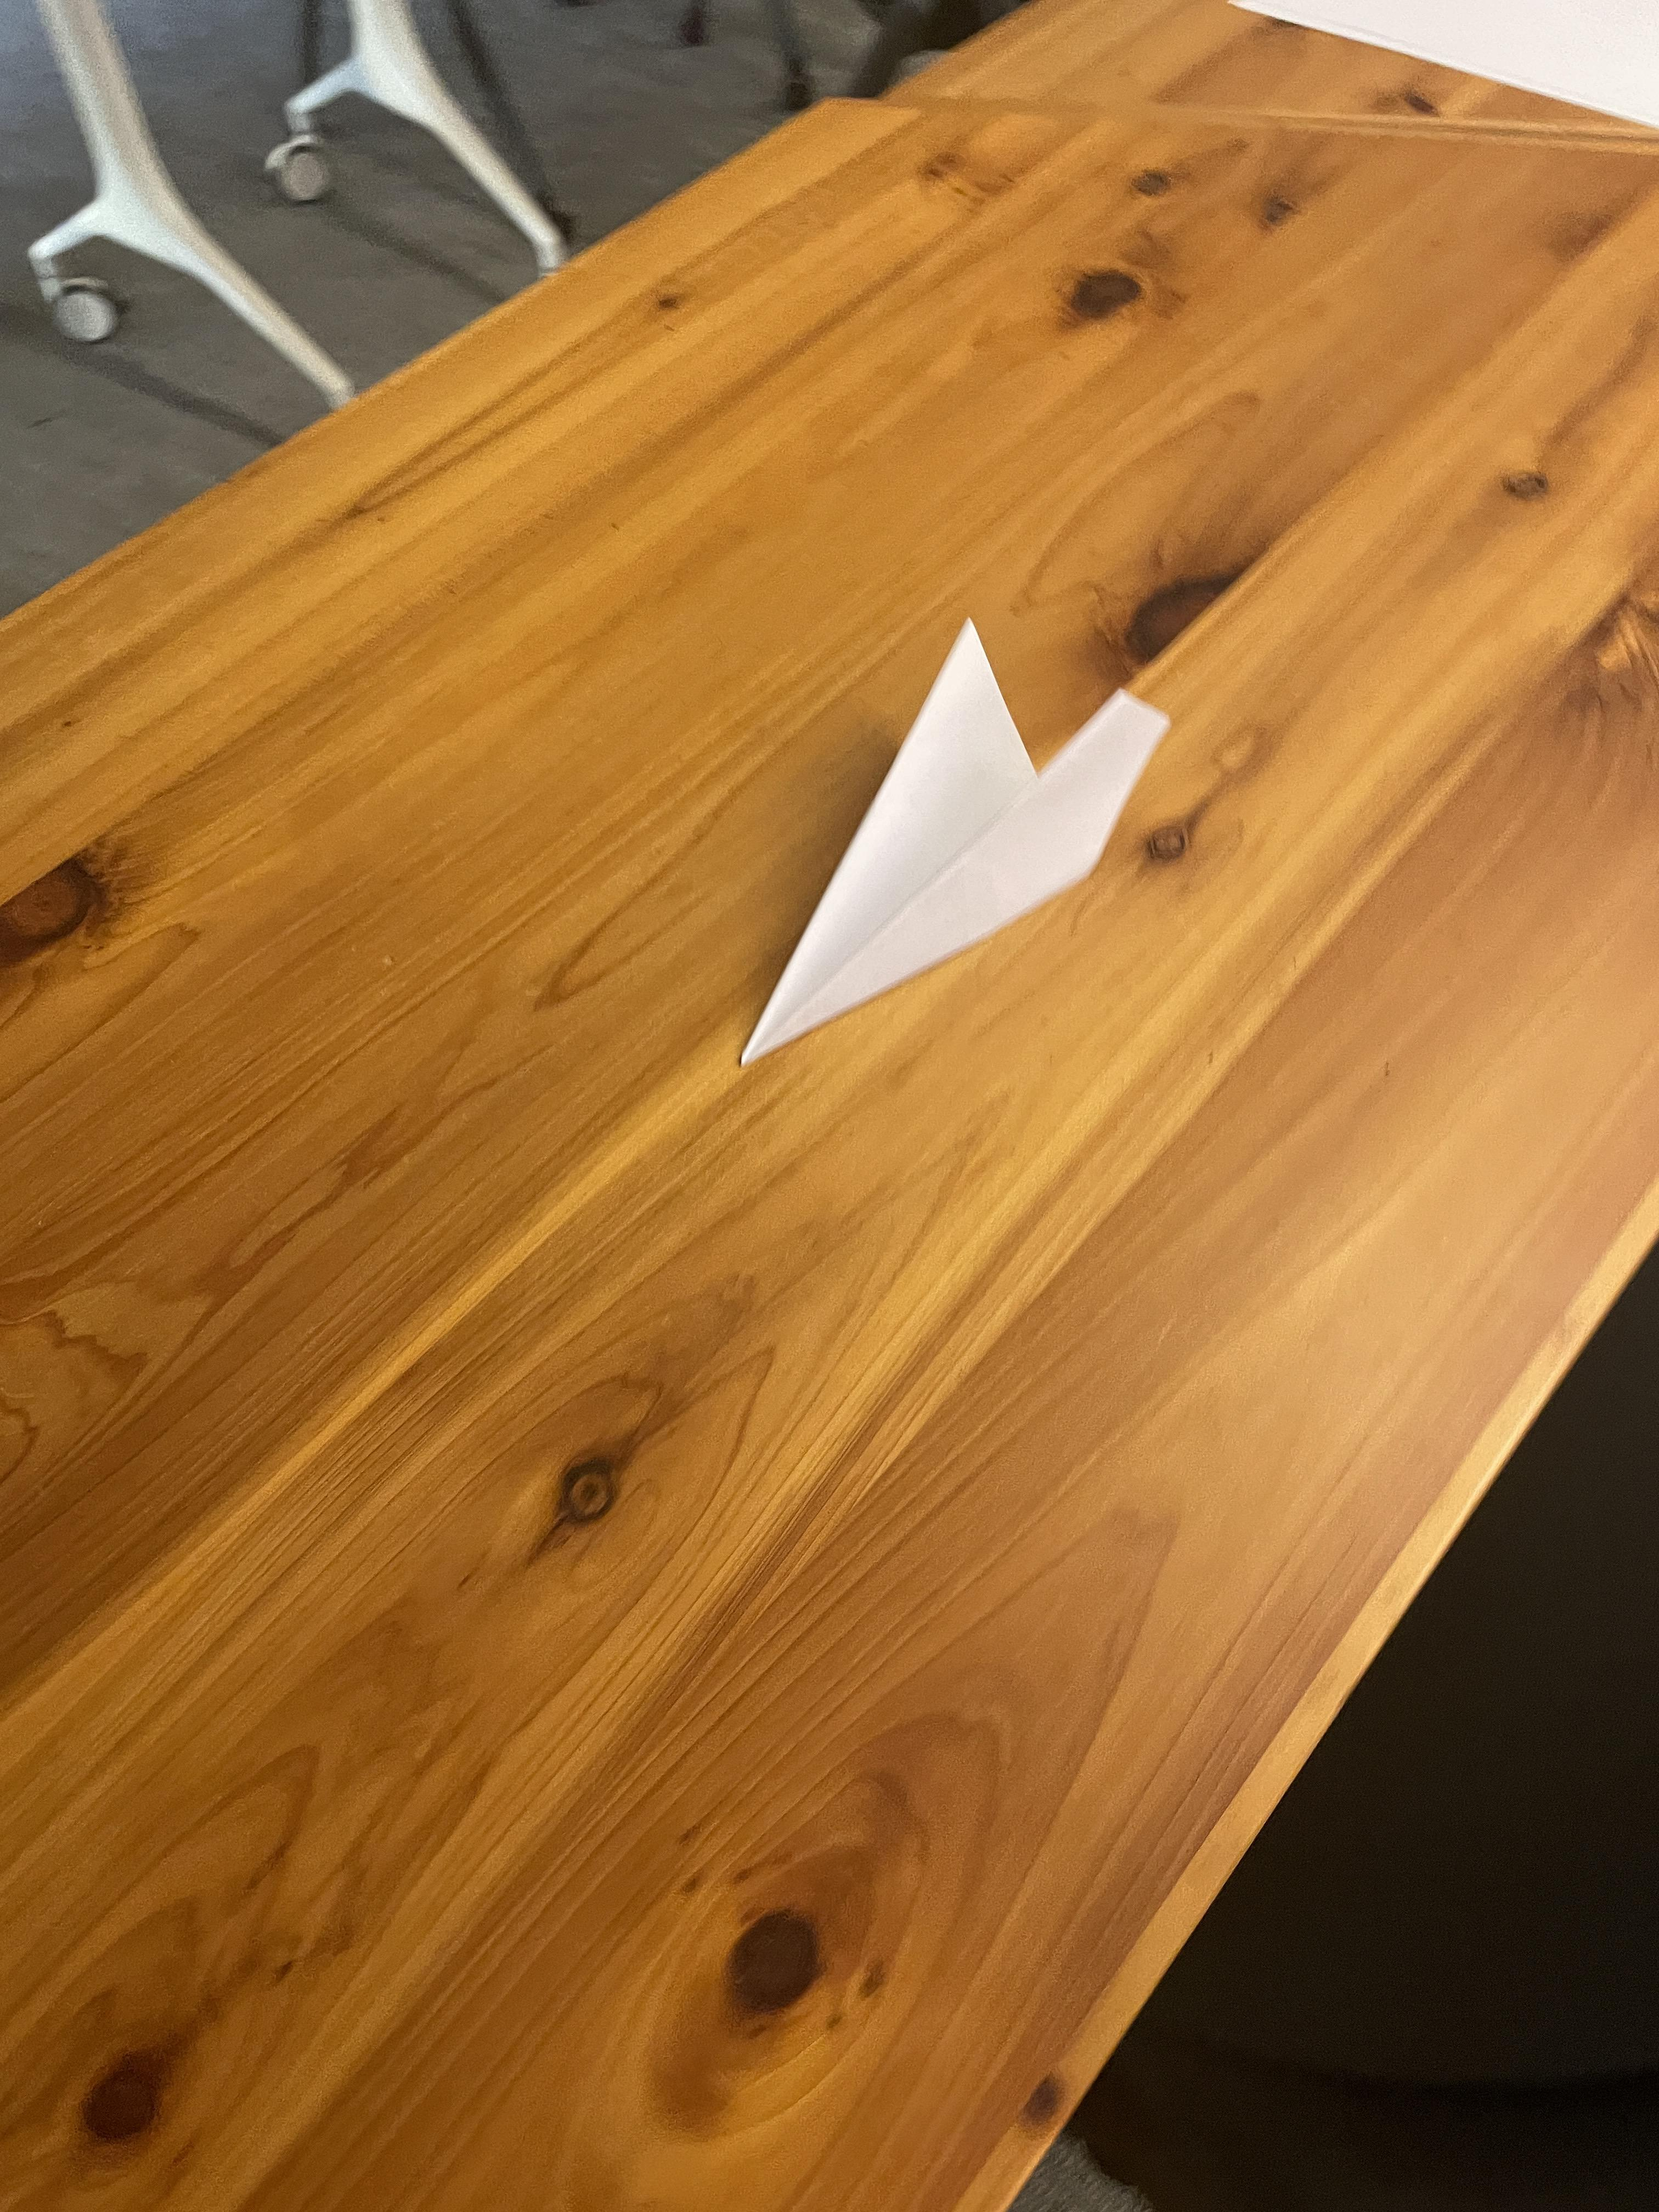shape_3: (603, 505, 1356, 1111)
